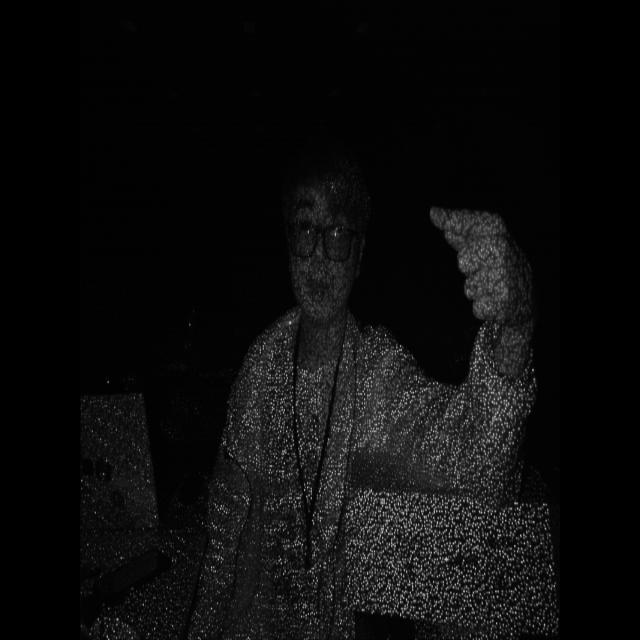G: (413, 178, 545, 374)
